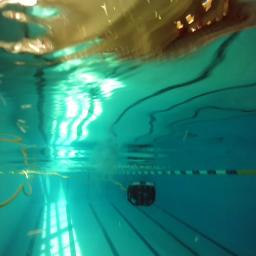Side: (126, 181, 156, 207)
